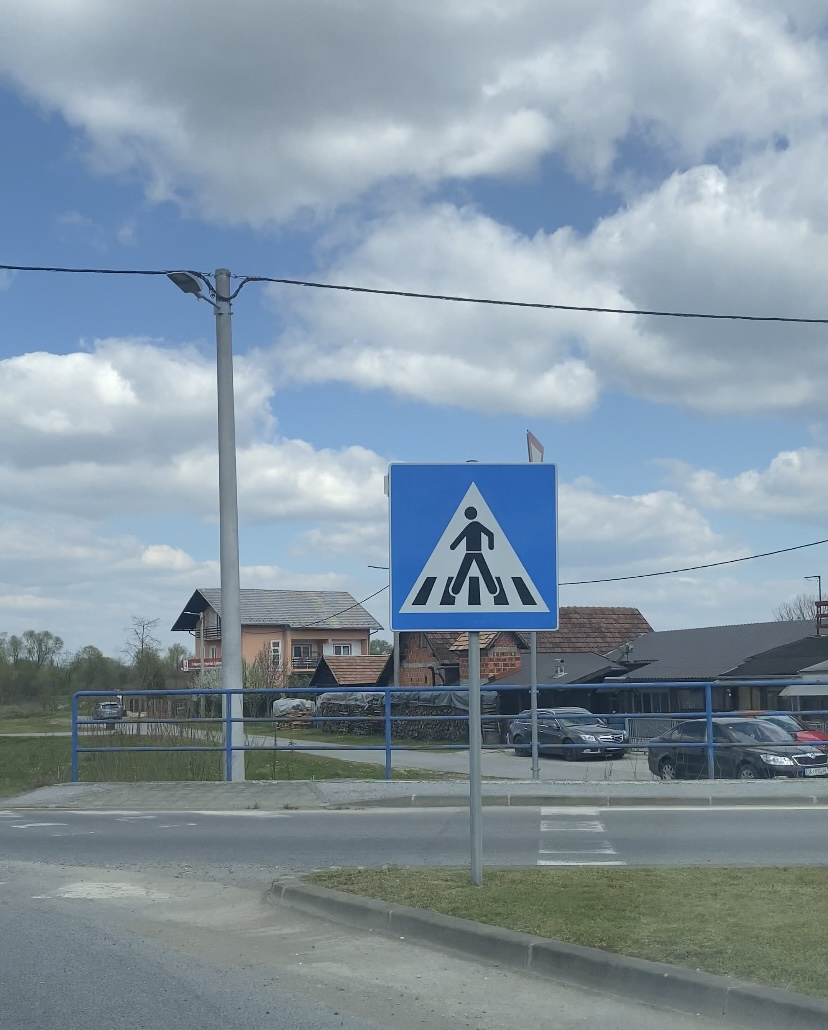Pješački prijelaz: (389, 464, 559, 630)
